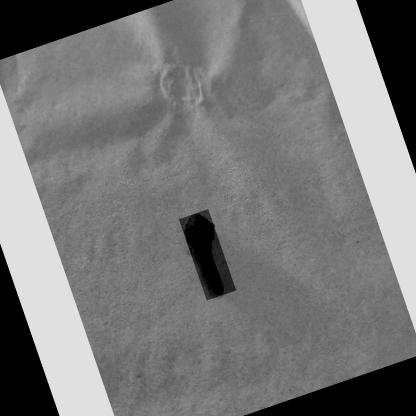baik: (186, 214, 225, 296)
